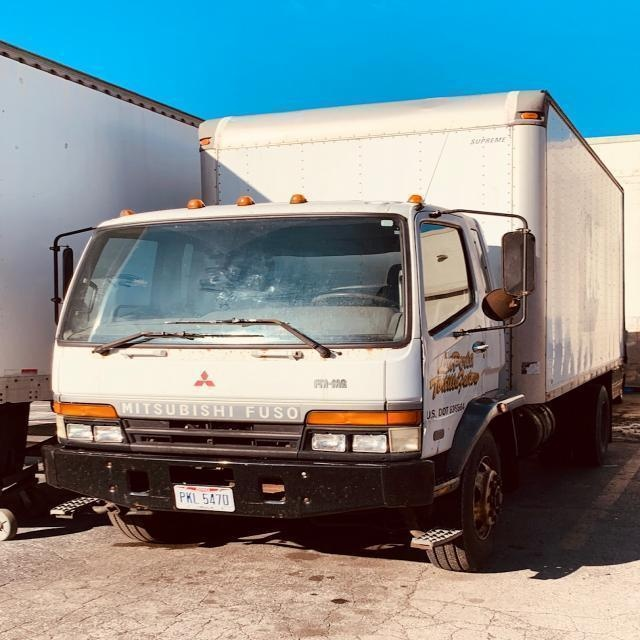Truck: (39, 84, 627, 554)
